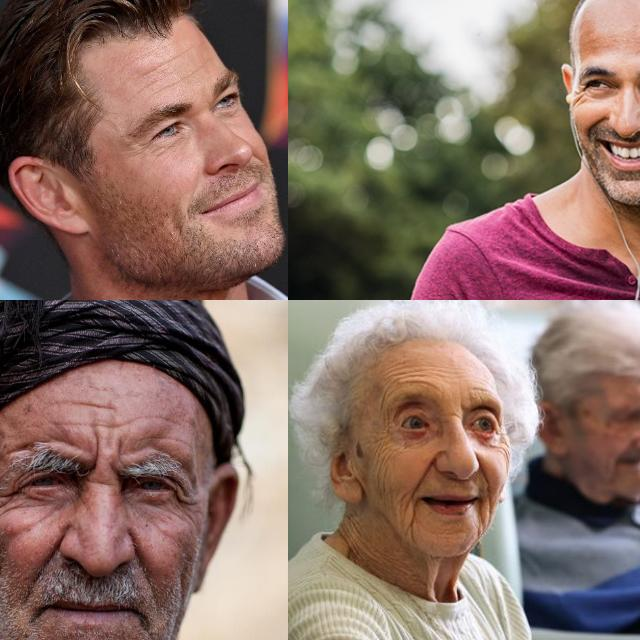crows_feet: (172, 484, 200, 526), (0, 480, 20, 517), (131, 142, 163, 160), (378, 417, 394, 435), (571, 86, 585, 105)
forehead: (74, 410, 130, 438), (72, 391, 120, 417), (4, 429, 44, 457), (136, 65, 176, 91), (186, 48, 212, 82), (144, 428, 188, 448), (464, 380, 494, 402), (389, 366, 421, 386), (424, 374, 444, 396)
frown_line: (84, 440, 106, 472), (113, 436, 129, 472), (447, 407, 465, 421)
gummy_smile: (32, 534, 62, 588), (124, 542, 158, 586), (412, 453, 434, 491), (473, 456, 491, 492), (584, 115, 606, 132)
masseter: (373, 446, 393, 490), (499, 440, 513, 466)
sad_smile: (407, 505, 419, 533)
